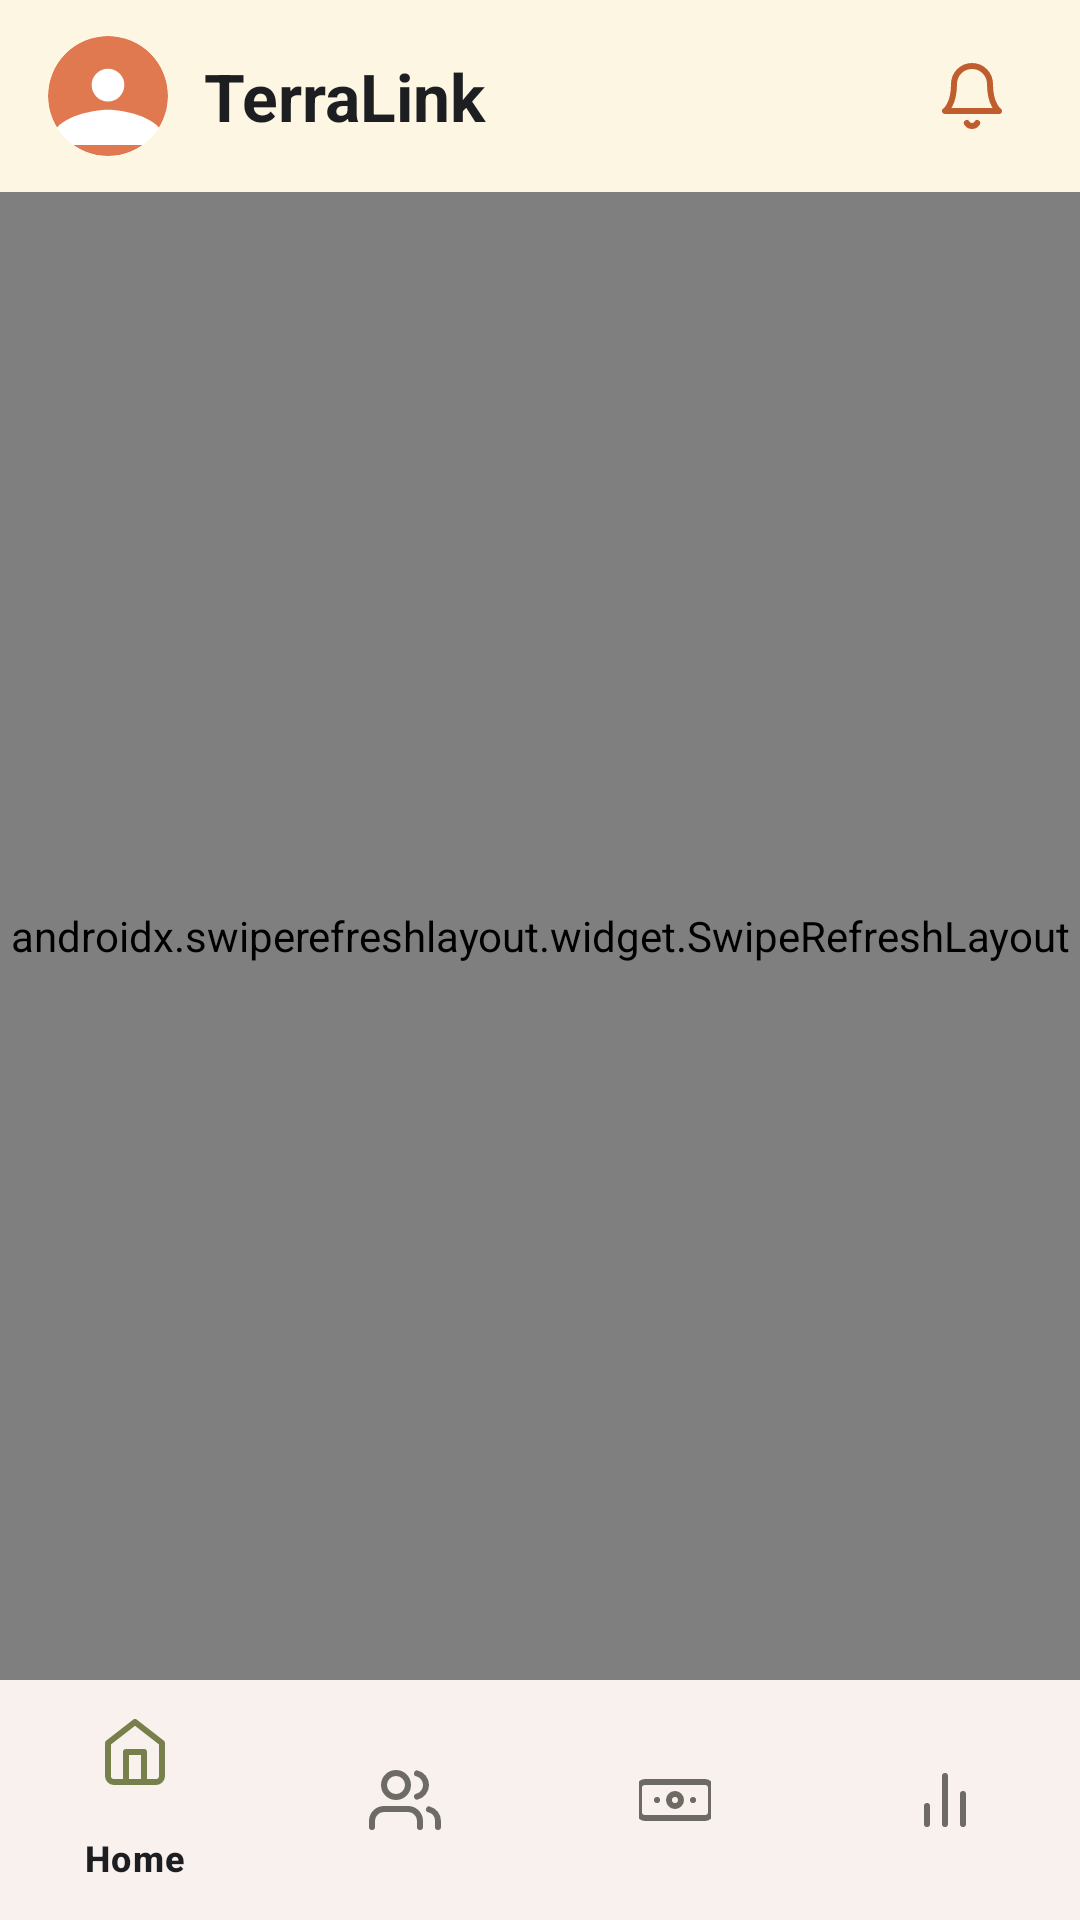

Where to tap for icons on this 1080 x 1920 app screen, as (x,y):
bell: (972,96)
